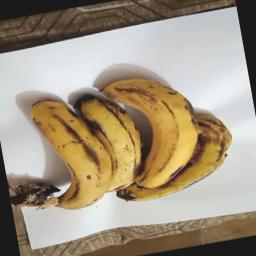Banana Unripe: (0, 64, 244, 226)
